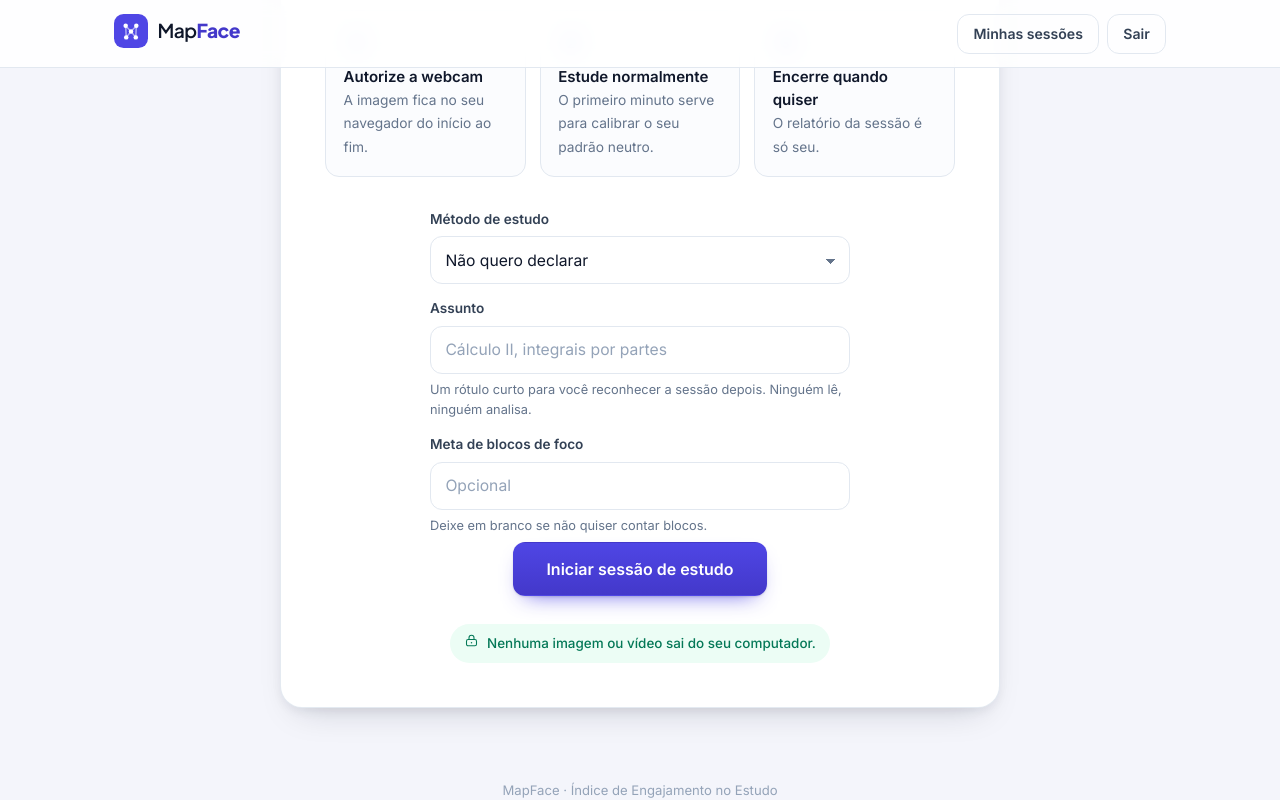
Test: HomeComponent › sessão de estudo › avisa quando o backend falha ao iniciar a sessão
(page scrolled)
Click the button "Iniciar sessão de estudo" at (640, 569), box [513,542,767,596]
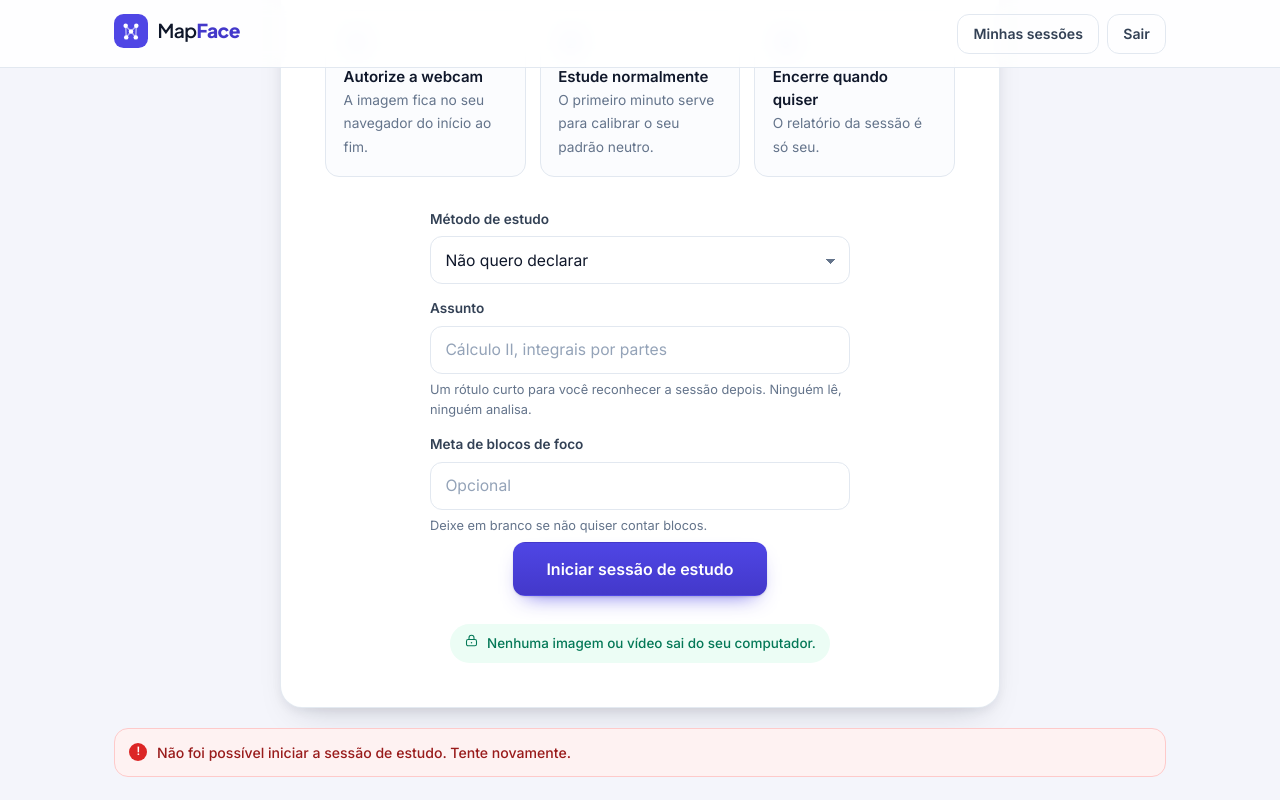
Expected: the text "Não foi possível iniciar" is shown, [157,744,571,761]
